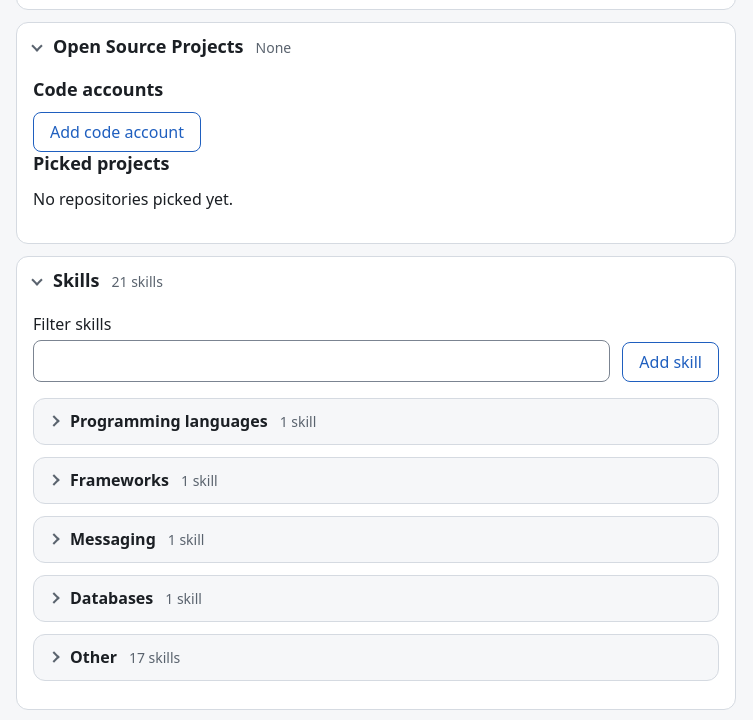
Test: grouped skills › filters by name across the groups, hides groups with no match and opens the rest
(page scrolled)
Type "POST" into the search field labelled "Filter skills". click: {"x": 322, "y": 360}
box: [33,340,610,382]
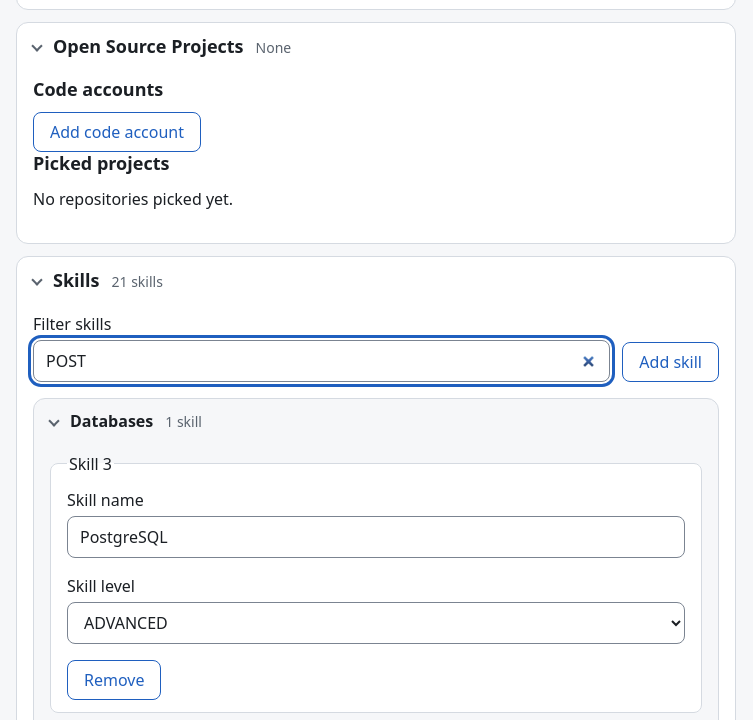
Expected: the heading "Other" is not shown
Expected: the number of fields labelled "Skill name" is 1, [67,516,685,558]
Expected: the heading "Frameworks" is gone
Replace the text in the search field labelled "Filter skills" with "nothing". click: {"x": 322, "y": 360}
box: [33,340,610,382]
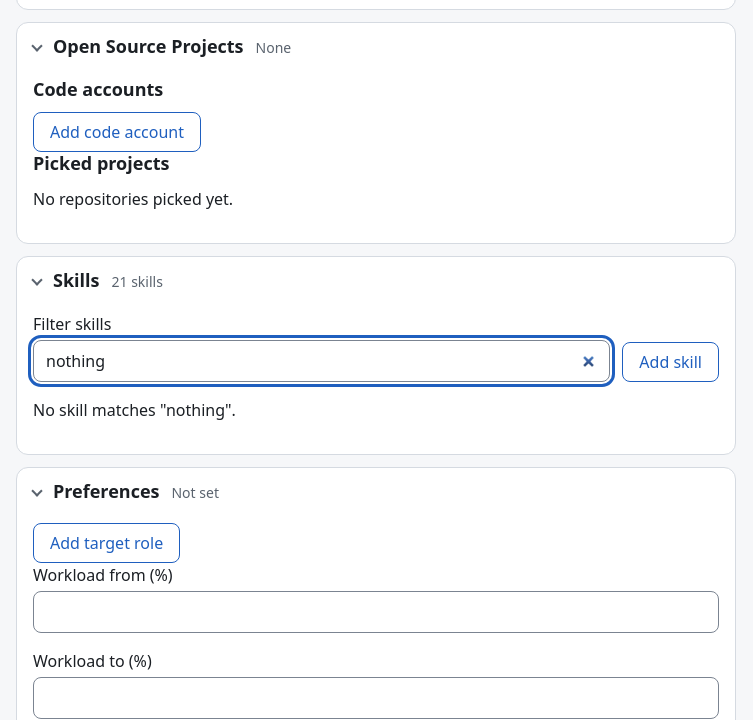
Expected: the text "No skill matches \"nothing\"." is shown, [33,398,236,420]
Clear the search field labelled "Filter skills". click: {"x": 322, "y": 360}
box: [33,340,610,382]
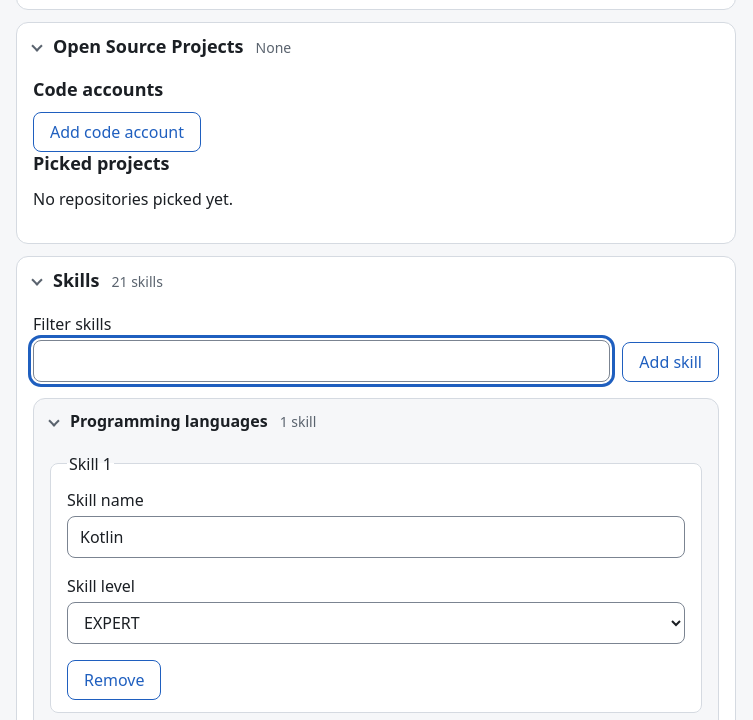
Expected: the number of fields labelled "Skill name" is 21
